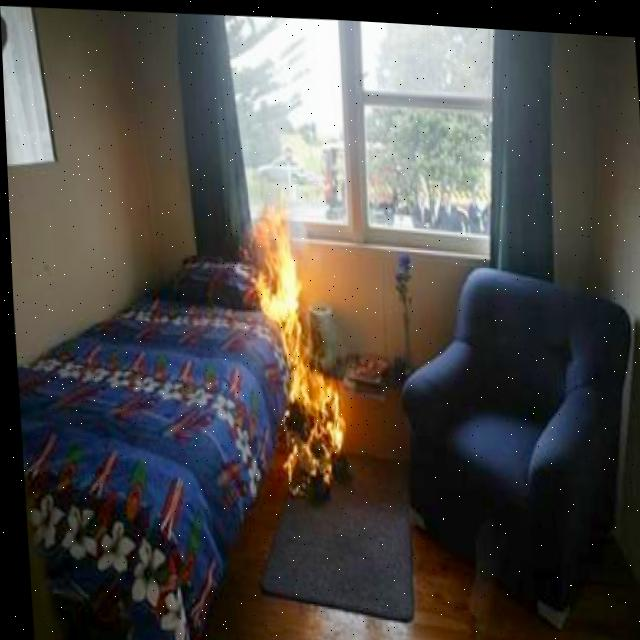fire: (250, 202, 341, 495)
